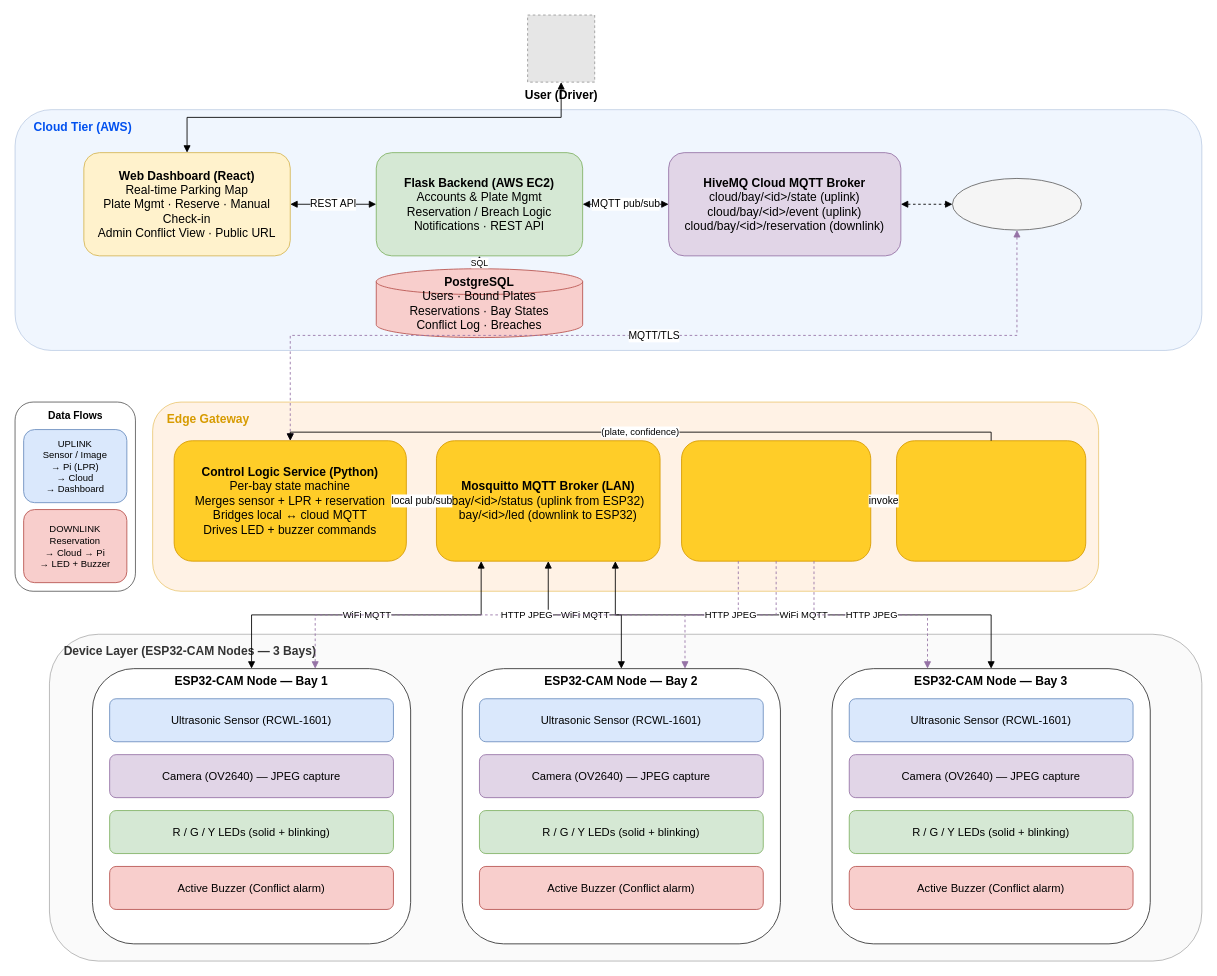
This 1217x976 diagram has some shape labels left out. Grey dashed boxes stand in for pictures. The box of each missing label's shape, as (x1, y1, x2, y2) in pixels:
Image Receiver (FastAPI) HTTP POST /upload?bay=<id> Stages JPEGs for LPR: (681, 440, 871, 561)
Internet (MQTT/TLS): (952, 178, 1081, 230)
OpenALPR Service (local) Plate extraction returns (plate, confidence): (896, 440, 1086, 561)
